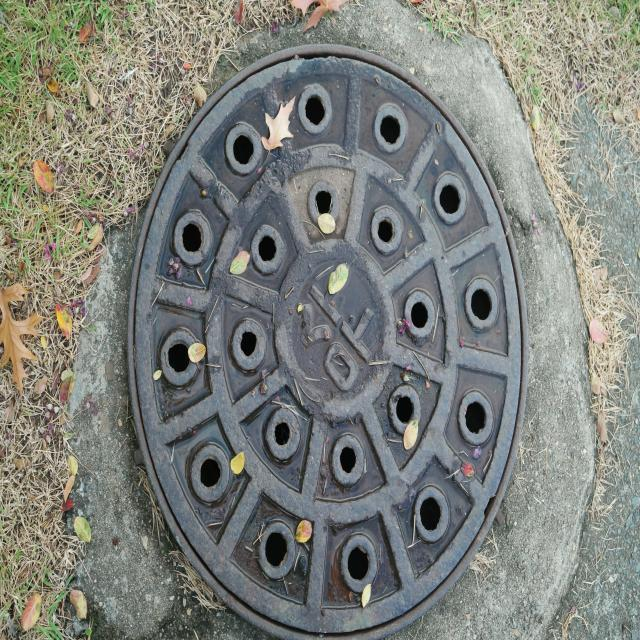manhole: (126, 45, 526, 640)
